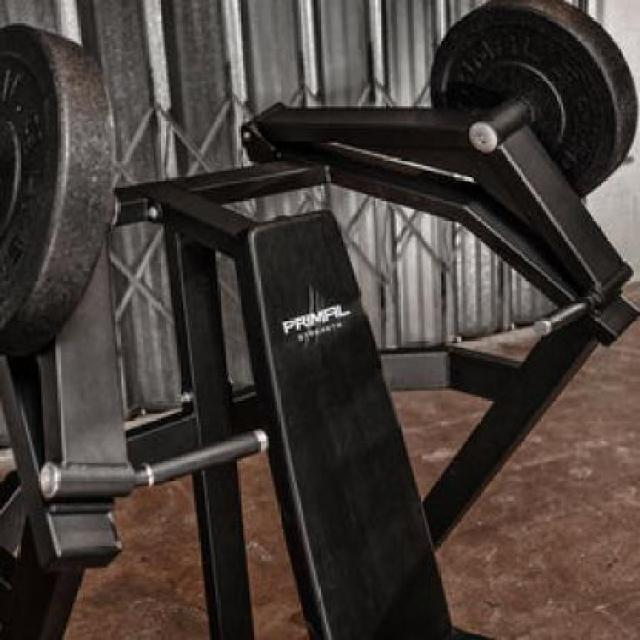shoulder press machine: (3, 20, 640, 638)
